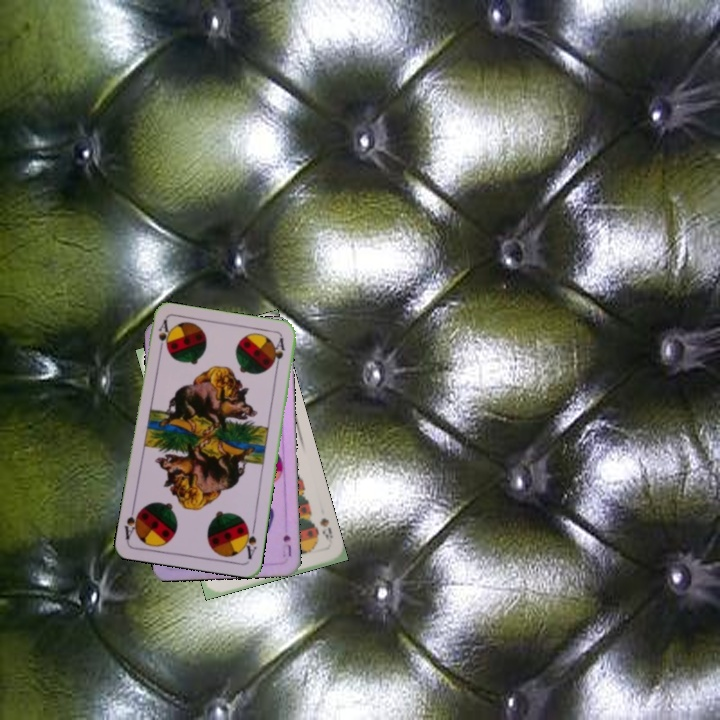S8: (315, 514, 336, 546)
SA: (239, 520, 259, 562), (155, 316, 171, 357)
SU: (278, 531, 294, 559)
